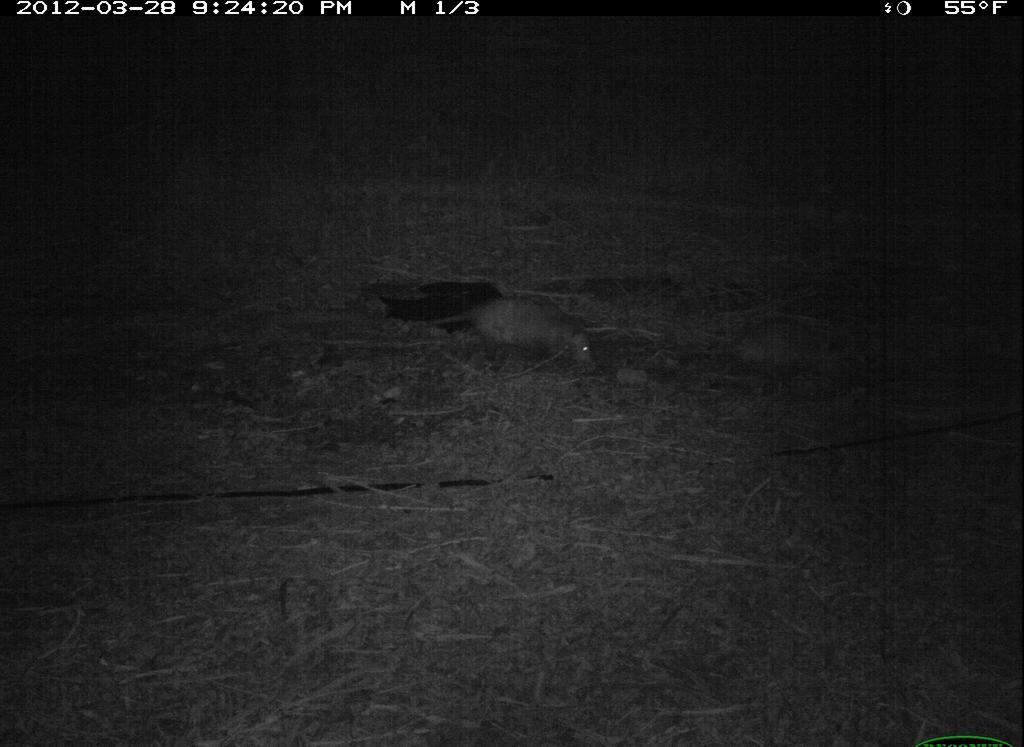opossum: (408, 285, 605, 374)
